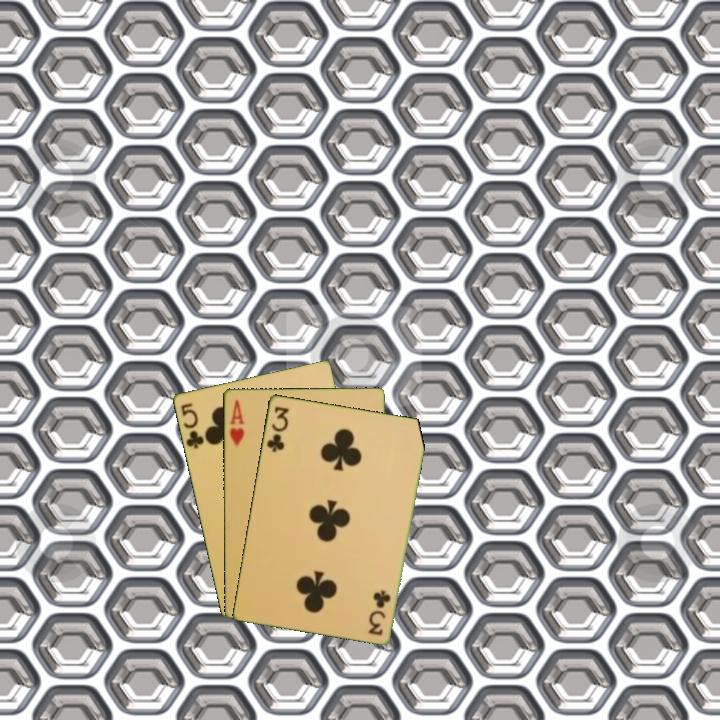3c: (263, 402, 292, 455), (366, 586, 393, 638)
5c: (177, 399, 206, 451)
Ah: (226, 396, 247, 448)
